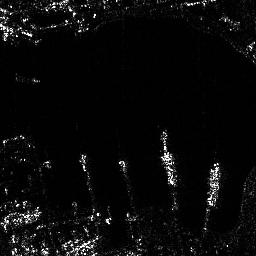ship: (204, 162, 221, 206), (161, 152, 179, 185)
